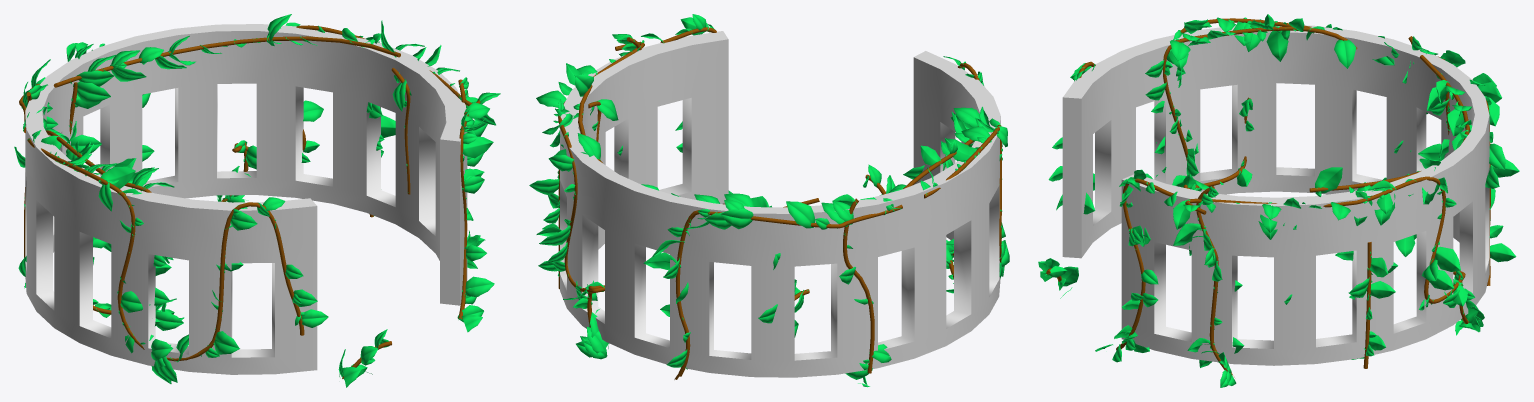
The model's file is TowerFence.fbx.
The picture shows the model from 3 angles, left to right: view 1: azimuth 30°, elevation 25°; view 2: azimuth 150°, elevation 25°; view 3: azimuth 270°, elevation 25°; orthographic projection. The views are drawn at different scales.
Visible parts, largest first — view 1: TowerFence, Leafs.001, Vine.001; view 2: TowerFence, Leafs.001, Vine.001; view 3: TowerFence, Leafs.001, Vine.001.
Boxes of the visible parts, x1,y1,x2,y2 form: TowerFence: (25, 24, 467, 374); Leafs.001: (14, 14, 500, 387); Vine.001: (19, 25, 480, 378); TowerFence: (560, 31, 1000, 377); Leafs.001: (529, 14, 1009, 387); Vine.001: (558, 27, 1001, 379); TowerFence: (1062, 25, 1489, 365); Leafs.001: (1038, 14, 1519, 387); Vine.001: (1046, 18, 1490, 377).
Size of the model in its own units: 212 by 105 by 223.
